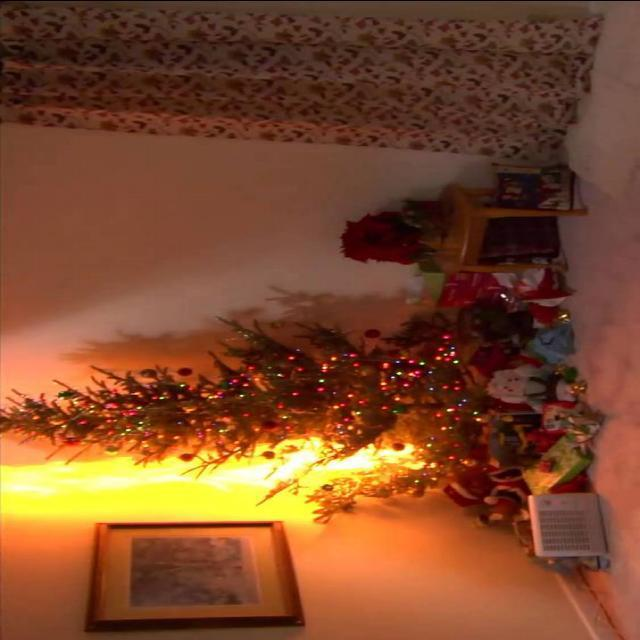Fire: (2, 412, 406, 520)
